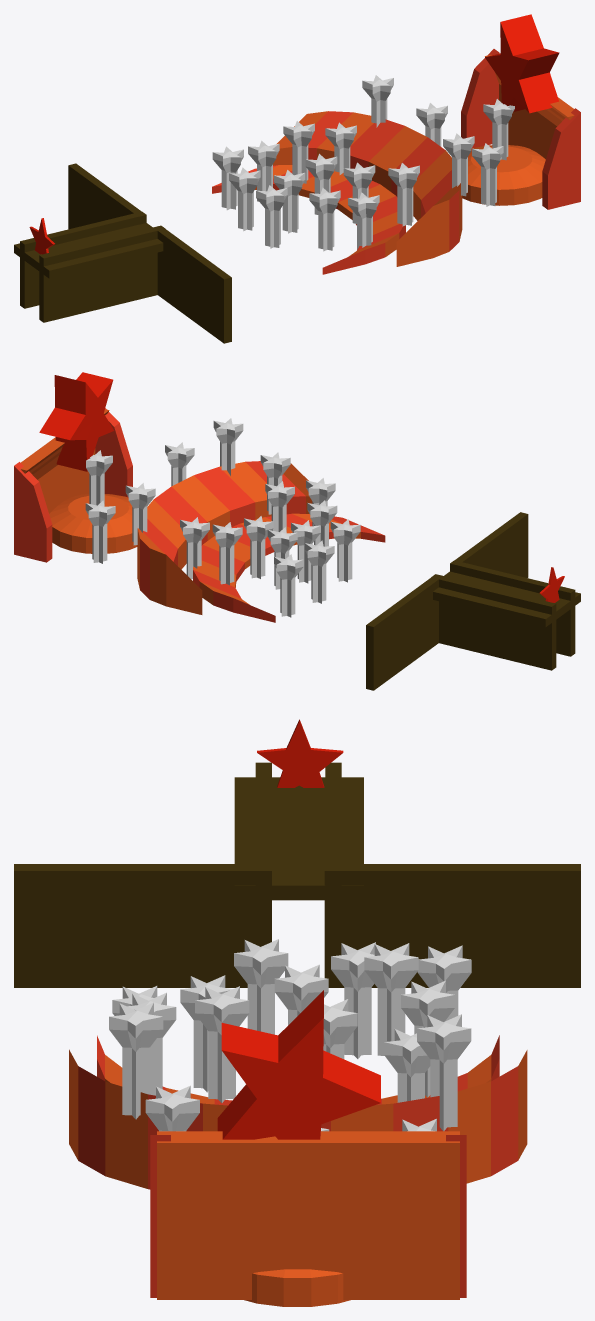
Rendered from evilCore_destroyBuildings.glb.
The picture shows the model from 3 angles, top to bottom: view 1: azimuth 30°, elevation 25°; view 2: azimuth 150°, elevation 25°; view 3: azimuth 270°, elevation 25°; orthographic projection. The views are drawn at different scales.
Parts seen in each view (by area): view 1: coreWalls.004, coreWalls.006, SunSymbol.005, core1.005, core1, coreWalls.002, coreWalls.005, coreSlope.001, core1.002, core1.001, coreWalls.003, coreSlope.015 (+28 smaller); view 2: coreWalls.003, coreWalls.005, SunSymbol.005, core1.005, core1.002, coreWalls.002, coreWalls.006, core1.001, coreWalls.004, coreSlope.011, core1, coreSlope.018 (+30 smaller); view 3: core1.001, coreWalls.006, coreWalls.005, SunSymbol.005, coreWalls.002, coreSlope.019, enemySymbolBuilidngs, coreWalls.003, enemySymbolBuilidngs.001, enemySymbolBuilidngs.010, core1.005, enemySymbolBuilidngs.004 (+21 smaller).
Part boxes in pixels (x1,y1,x2,y2): coreWalls.004: (39, 225, 165, 322); coreWalls.006: (157, 226, 231, 343); SunSymbol.005: (485, 14, 559, 113); core1.005: (462, 145, 545, 205); core1: (542, 108, 580, 209); coreWalls.002: (14, 223, 163, 278); coreWalls.005: (68, 163, 146, 229); coreSlope.001: (396, 200, 449, 266); core1.002: (461, 49, 499, 148); core1.001: (485, 54, 574, 159); coreWalls.003: (20, 211, 146, 308); coreSlope.015: (368, 126, 427, 191); coreWalls.003: (431, 574, 556, 670); coreWalls.005: (366, 574, 442, 690); SunSymbol.005: (39, 372, 114, 471); core1.005: (49, 494, 137, 553); core1.002: (14, 462, 52, 562); coreWalls.002: (433, 571, 580, 627); coreWalls.006: (455, 512, 528, 577); core1.001: (21, 409, 109, 513); coreWalls.004: (450, 560, 575, 656); coreSlope.011: (150, 548, 202, 614); core1: (95, 408, 132, 497); coreSlope.018: (194, 467, 255, 526); core1.001: (157, 1131, 459, 1299); coreWalls.006: (14, 864, 270, 987); coreWalls.005: (324, 864, 580, 987); SunSymbol.005: (217, 990, 380, 1139); coreWalls.002: (234, 777, 363, 900); coreSlope.019: (105, 1081, 147, 1188); enemySymbolBuilidngs: (109, 1002, 163, 1119); coreWalls.003: (325, 762, 341, 987); enemySymbolBuilidngs.001: (417, 1014, 471, 1131); enemySymbolBuilidngs.010: (364, 943, 418, 1055); core1.005: (244, 1269, 350, 1306); enemySymbolBuilidngs.004: (195, 986, 249, 1102).
Bounding box in the file's own units: 1128 × 358 × 591.
